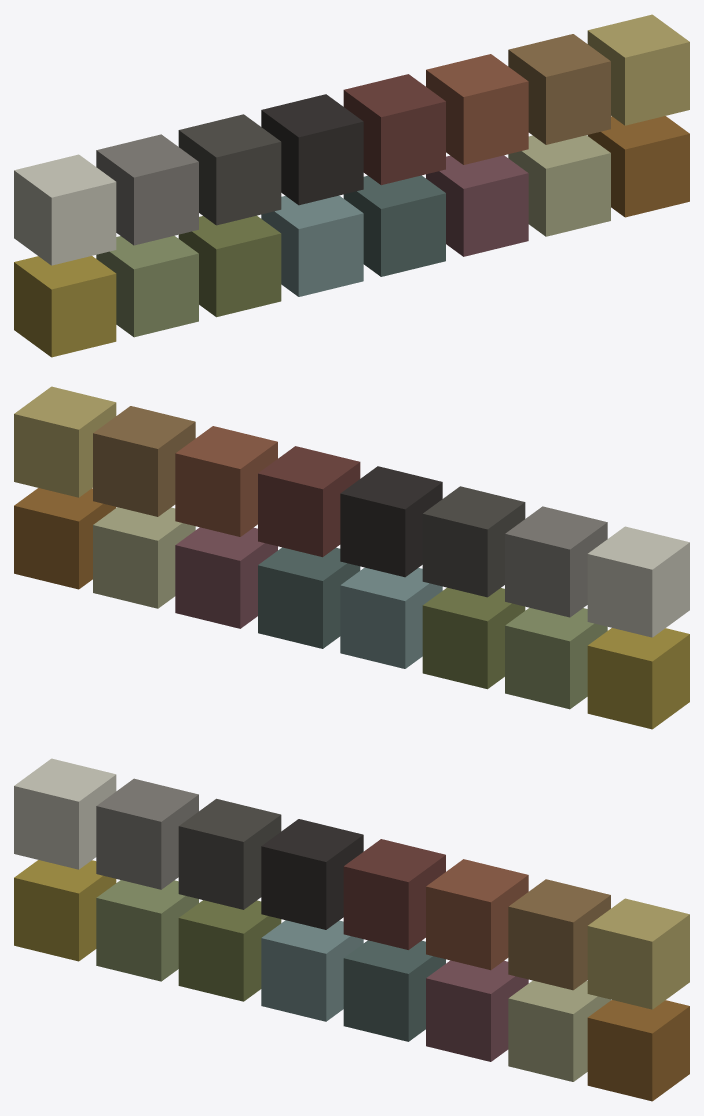
File: Palette_Blocks.fbx
3 views of the same model, one above another, from view 1: azimuth 30°, elevation 25°; view 2: azimuth 150°, elevation 25°; view 3: azimuth 330°, elevation 25° (orthographic).
Visible parts, largest first — view 1: pCube19, pCube25, pCube16, pCube20, pCube22, pCube21, pCube17, pCube18, pCube29, pCube26, pCube28, pCube27 (+4 smaller); view 2: pCube19, pCube25, pCube16, pCube20, pCube22, pCube21, pCube17, pCube18, pCube29, pCube26, pCube28, pCube27 (+4 smaller); view 3: pCube29, pCube30, pCube16, pCube18, pCube19, pCube22, pCube17, pCube20, pCube21, pCube26, pCube15, pCube24 (+4 smaller).
Part boxes in pixels (x1,y1,x2,y2): pCube19: (14,154,116,265); pCube25: (14,256,116,357); pCube16: (178,114,281,225); pCube20: (261,94,363,205); pCube22: (96,134,198,245); pCube21: (508,34,610,144); pCube17: (343,74,445,185); pCube18: (426,54,528,164); pCube29: (587,14,689,125); pCube26: (178,215,281,317); pCube28: (426,155,528,256); pCube27: (508,135,610,236); pCube19: (587,526,689,637); pCube25: (587,628,689,729); pCube16: (422,486,525,597); pCube20: (340,466,442,577); pCube22: (505,506,607,617); pCube21: (93,406,195,516); pCube17: (258,446,360,557); pCube18: (175,426,277,536); pCube29: (14,386,116,497); pCube26: (422,587,525,689); pCube28: (175,527,277,628); pCube27: (93,507,195,608); pCube29: (587,898,689,1009); pCube30: (587,1000,689,1101); pCube16: (178,798,281,909); pCube18: (426,859,528,970); pCube19: (14,758,116,869); pCube22: (96,778,198,889); pCube17: (343,839,445,949); pCube20: (261,819,363,929); pCube21: (508,879,610,990); pCube26: (178,900,281,1001); pCube15: (343,940,445,1041); pCube24: (96,880,198,981).
Size of the model in its own units: 542 by 129 by 55.09.
